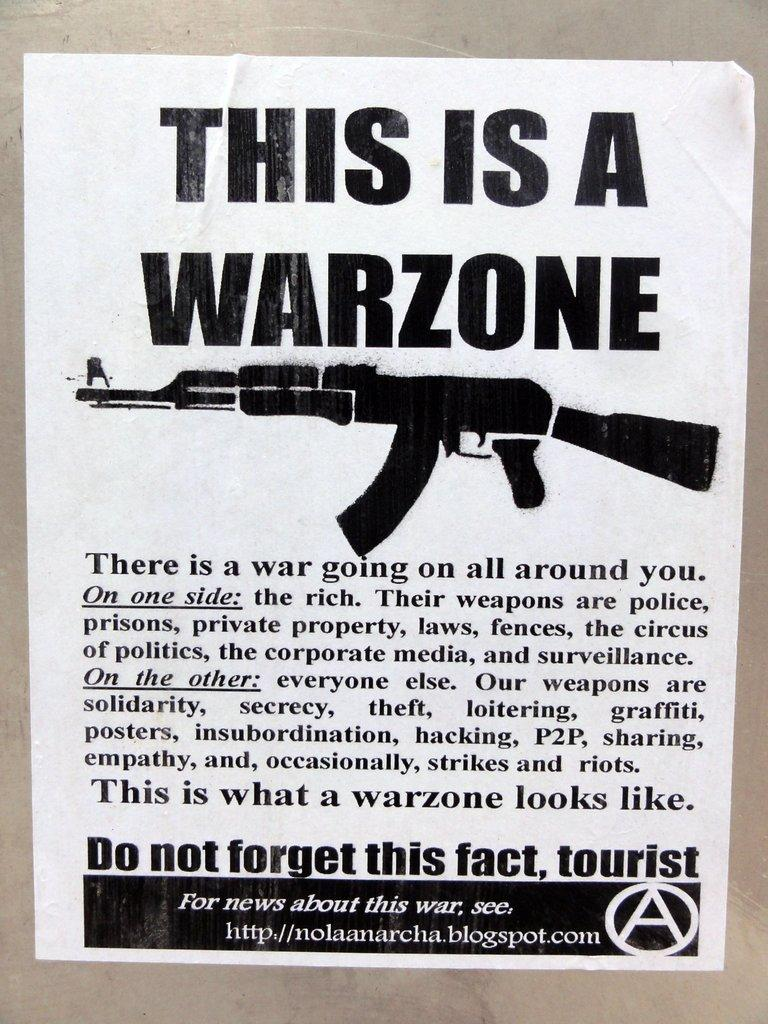Rifle: (78, 358, 721, 555)
